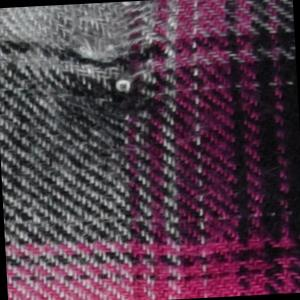Damage: (44, 15, 193, 151)
